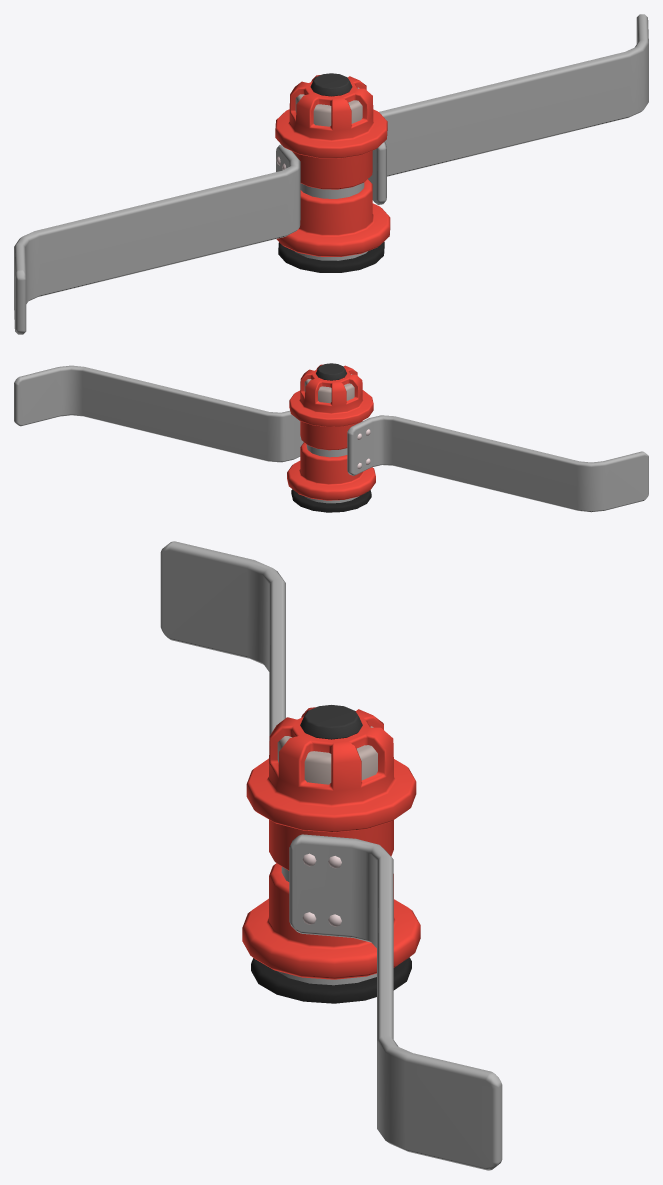
Rendered from obstacle_10_001.fbx.
3 views of the same model, one above another, from view 1: azimuth 30°, elevation 25°; view 2: azimuth 150°, elevation 25°; view 3: azimuth 270°, elevation 25° (orthographic). The views are drawn at different scales.
Visible parts, largest first — view 1: obstacle_10_001; view 2: obstacle_10_001; view 3: obstacle_10_001.
Boxes of the visible parts, box(x1,y1,x2,y2) form: obstacle_10_001: box(14, 14, 648, 334); obstacle_10_001: box(14, 363, 648, 512); obstacle_10_001: box(160, 541, 502, 1170).
Size of the model in its own units: 965 by 258 by 212.
